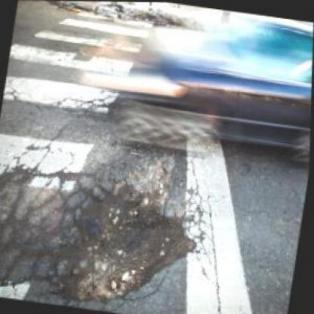Hueco: (51, 175, 202, 313)
